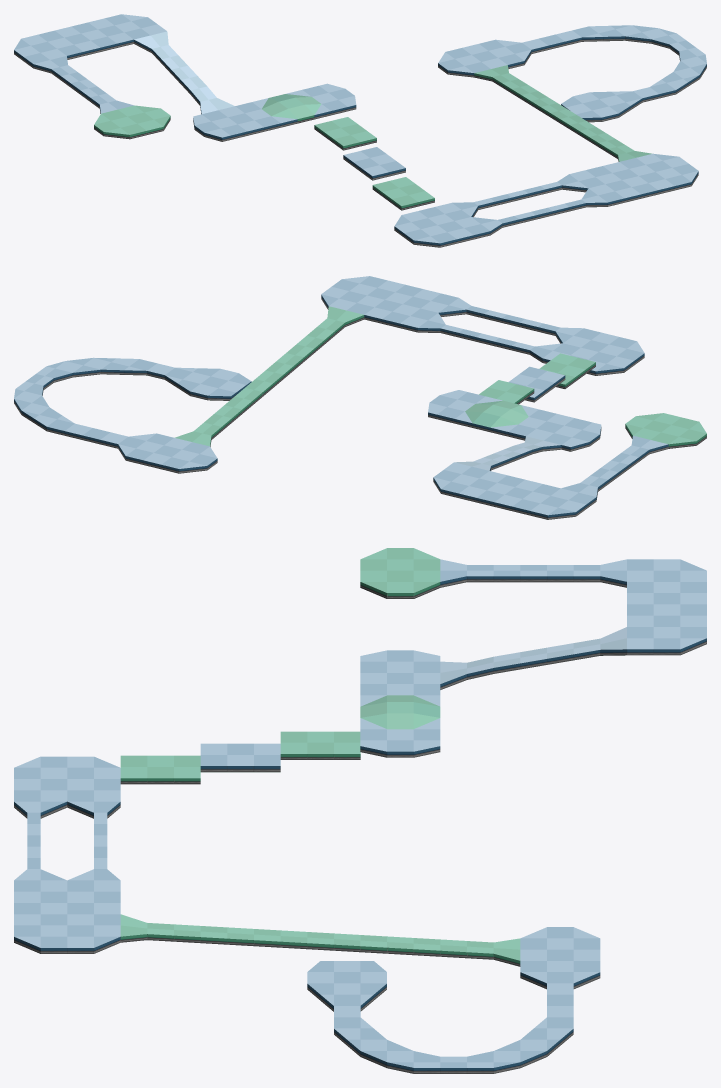
File: level_1.glb
The picture shows the model from 3 angles, top to bottom: view 1: azimuth 30°, elevation 25°; view 2: azimuth 150°, elevation 25°; view 3: azimuth 270°, elevation 25°; orthographic projection. The views are drawn at different scales.
Parts seen in each view (by area): view 1: OBJ_14_001231; view 2: OBJ_14_001231; view 3: OBJ_14_001231.
Part boxes in pixels (bbox=[...]): OBJ_14_001231: bbox=[14, 14, 706, 247]; OBJ_14_001231: bbox=[14, 276, 706, 519]; OBJ_14_001231: bbox=[14, 548, 706, 1073].
Bounding box in the file's own units: 36.5 × 4.75 × 26.
Materials: 9 (1 with a texture image).
